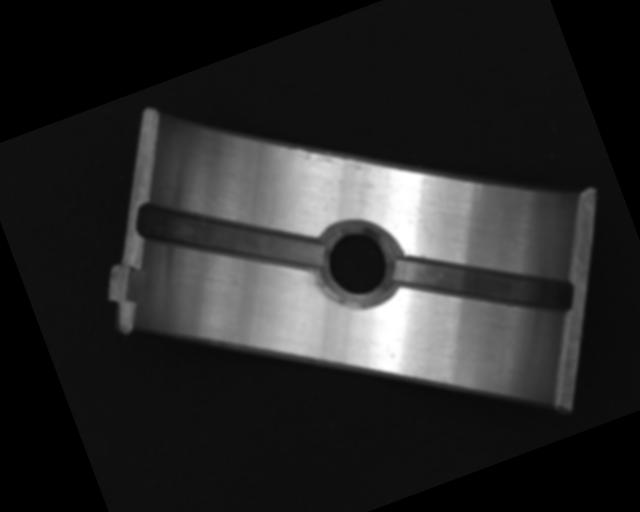gap: (129, 147, 327, 322), (388, 207, 578, 364)
hole: (313, 215, 406, 319)
